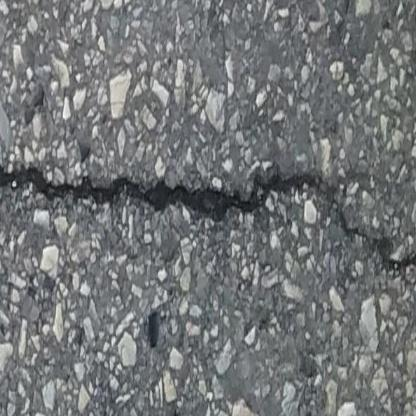Cracks: (0, 146, 416, 281)
